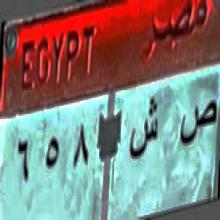5: (44, 132, 62, 181)
6: (15, 130, 33, 194)
8: (73, 120, 90, 172)
saad: (178, 93, 217, 150)
sheen: (128, 98, 160, 169)
